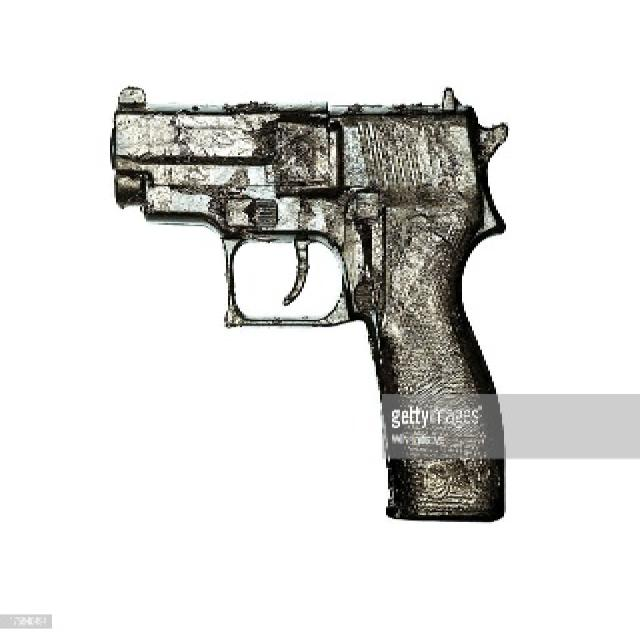handgun: (103, 75, 517, 524)
